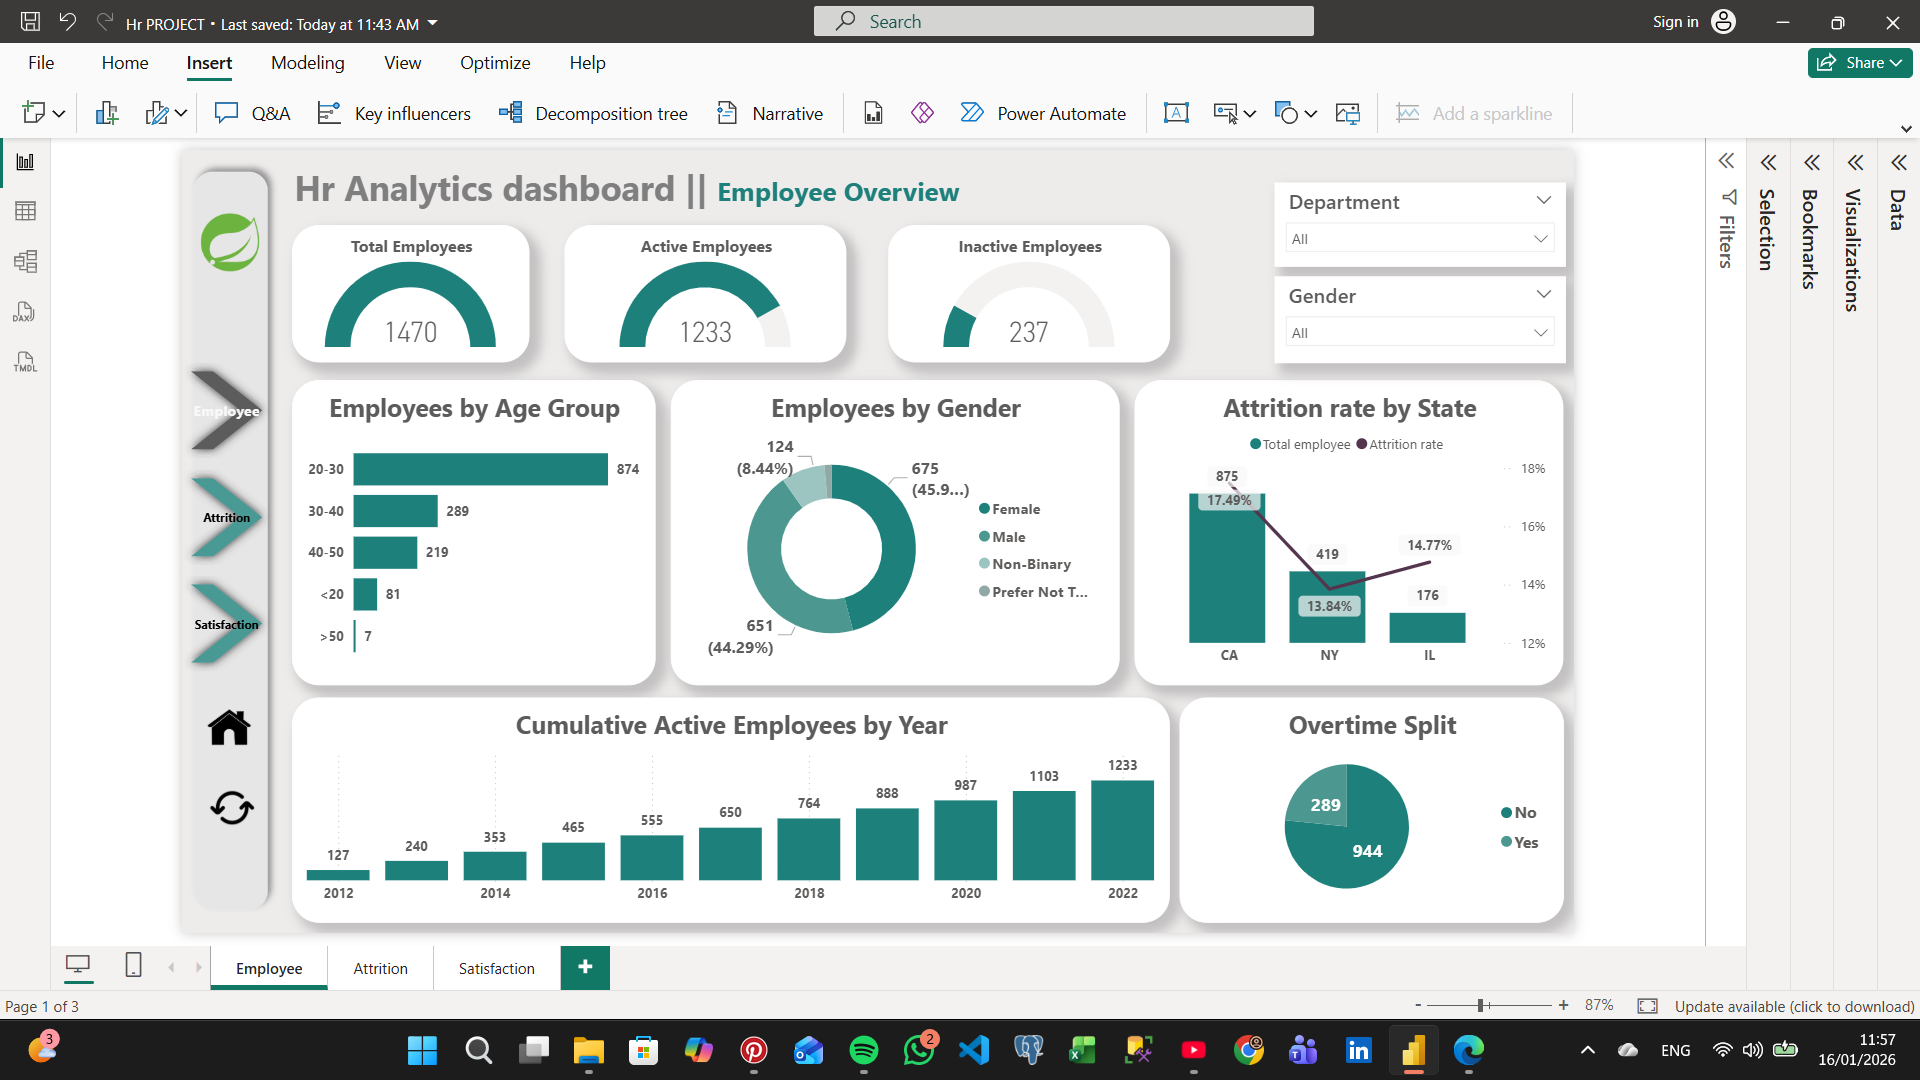

The dashboard page shown, as its layout file describes it:
{"tool":"powerbi","page":{"name":"Employee","canvas":[1280,720],"ordinal":0},"visuals":[{"type":"shape","box":[0,9.2,89.7,700],"z":0},{"type":"textbox","box":[89.3,8.4,645.4,60.3],"z":1000},{"type":"gauge","title":"Total Employees","fields":{"Y":["Maesures.Total employee"],"MaxValue":["Maesures.Total employee"]},"box":[101.3,68.8,218.4,126.7],"z":2000},{"type":"gauge","title":"Inactive Employees","fields":{"MaxValue":["Maesures.Total employee"],"Y":["Maesures.Inactive Employee"]},"box":[649.1,68.8,259.4,126.7],"z":3000},{"type":"gauge","title":"Active Employees","fields":{"MaxValue":["Maesures.Total employee"],"Y":["Maesures.Active employee"]},"box":[352.3,68.8,259.4,126.7],"z":4000},{"type":"barChart","title":"Employees by Age Group","fields":{"Category":["Dim Employee.Age Group"],"Y":["CountNonNull(Dim Employee.EmployeeID)"]},"box":[101.3,211.1,334.2,281.1],"z":5000},{"type":"donutChart","title":" Employees by Gender","fields":{"Y":["CountNonNull(Dim Employee.EmployeeID)"],"Category":["Dim Employee.Gender"]},"box":[449.4,211.1,412.6,281.1],"z":6000},{"type":"columnChart","fields":{"Y":["Maesures.Cumulative Active Employees"],"Category":["DimDate.Year"]},"box":[101.3,503.1,807.1,207.5],"z":7000},{"type":"lineStackedColumnComboChart","title":"Attrition rate by State","fields":{"Category":["Dim Employee.State"],"Y2":["Maesures.Attrition rate"],"Y":["Maesures.Total employee"]},"box":[875.9,211.1,394.5,281.1],"z":8000},{"type":"pieChart","title":"Overtime Split","fields":{"Y":["Maesures.Active employee"],"Category":["Dim Employee.OverTime"]},"box":[916.9,503.1,353.5,207.5],"z":9000},{"type":"slicer","fields":{"Values":["Dim Employee.Department"]},"box":[1005,30.2,267.8,77.2],"z":10000},{"type":"slicer","fields":{"Values":["Dim Employee.Gender"]},"box":[1005,115.8,267.8,79.6],"z":11000},{"type":"image","box":[5.1,492.4,79.7,77.2],"z":12000},{"type":"image","box":[8.9,572.2,73.4,67.1],"z":13000},{"type":"pageNavigator","box":[0,195.4,82.8,285.1],"z":13001},{"type":"image","box":[12.6,37.9,63.2,94.3],"z":13002}]}

Visuals, with their boxes on the page's 1280x720 design canvas (x1, y1, x2, y2). These are canvas units, not pixel positions in the 1920x1080 screenshot, which may show the page scaled, cropped or inside an application window:
shape: 0:9:90:709
textbox: 89:8:735:69
"Total Employees" gauge: 101:69:320:196
"Inactive Employees" gauge: 649:69:908:196
"Active Employees" gauge: 352:69:612:196
"Employees by Age Group" barChart: 101:211:436:492
" Employees by Gender" donutChart: 449:211:862:492
columnChart - Maesures.Cumulative Active Employees x DimDate.Year: 101:503:908:711
"Attrition rate by State" lineStackedColumnComboChart: 876:211:1270:492
"Overtime Split" pieChart: 917:503:1270:711
slicer - Dim Employee.Department: 1005:30:1273:107
slicer - Dim Employee.Gender: 1005:116:1273:195
image: 5:492:85:570
image: 9:572:82:639
pageNavigator: 0:195:83:480
image: 13:38:76:132
